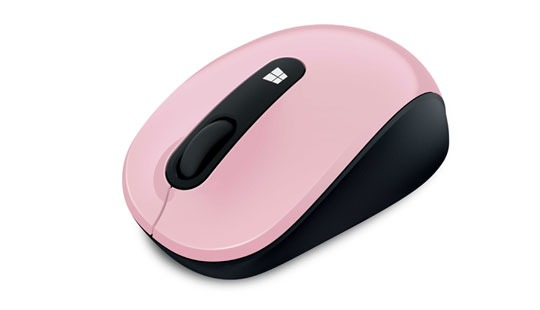mouse: (120, 23, 451, 281)
